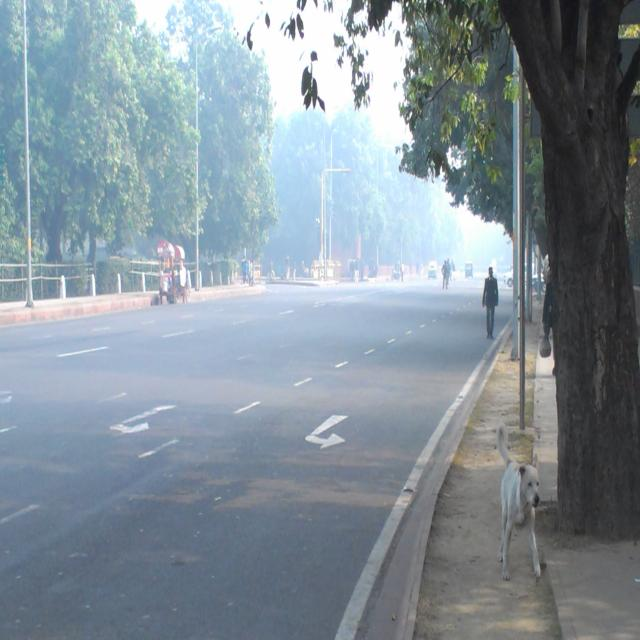Clean road: (0, 275, 488, 640)
